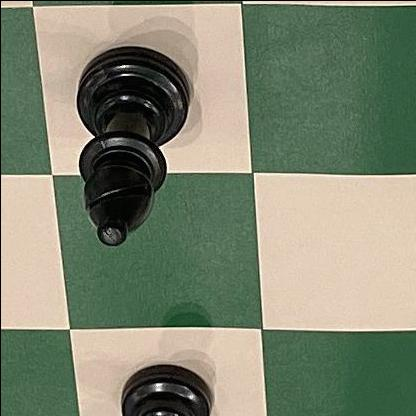black-bishop: (46, 34, 213, 264)
black-pawn: (89, 352, 229, 416)
